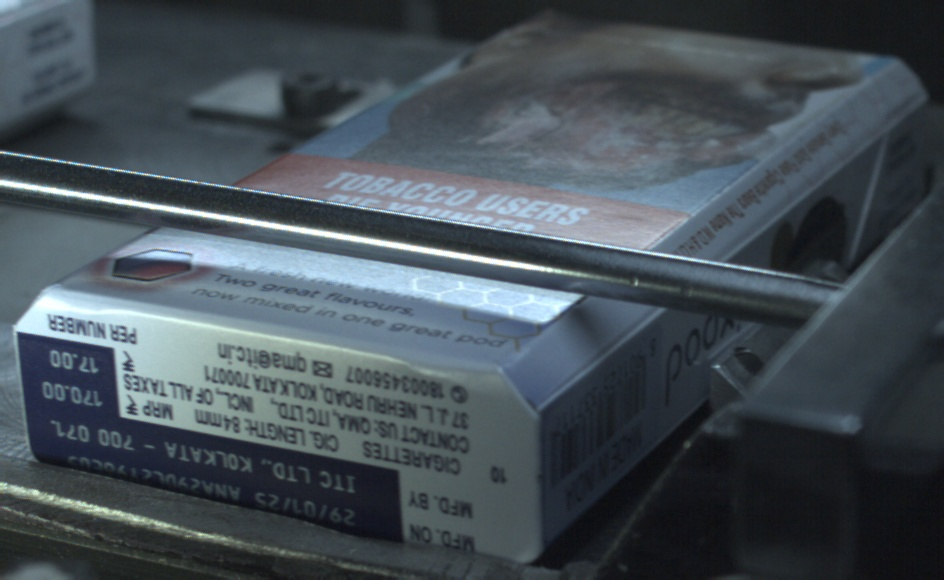g_bottom: (17, 299, 530, 580)
g_label: (38, 348, 366, 530)
g_lmiter: (814, 139, 891, 207), (735, 187, 812, 255), (596, 305, 664, 363), (542, 351, 610, 409)
g_miter: (891, 88, 939, 165)
